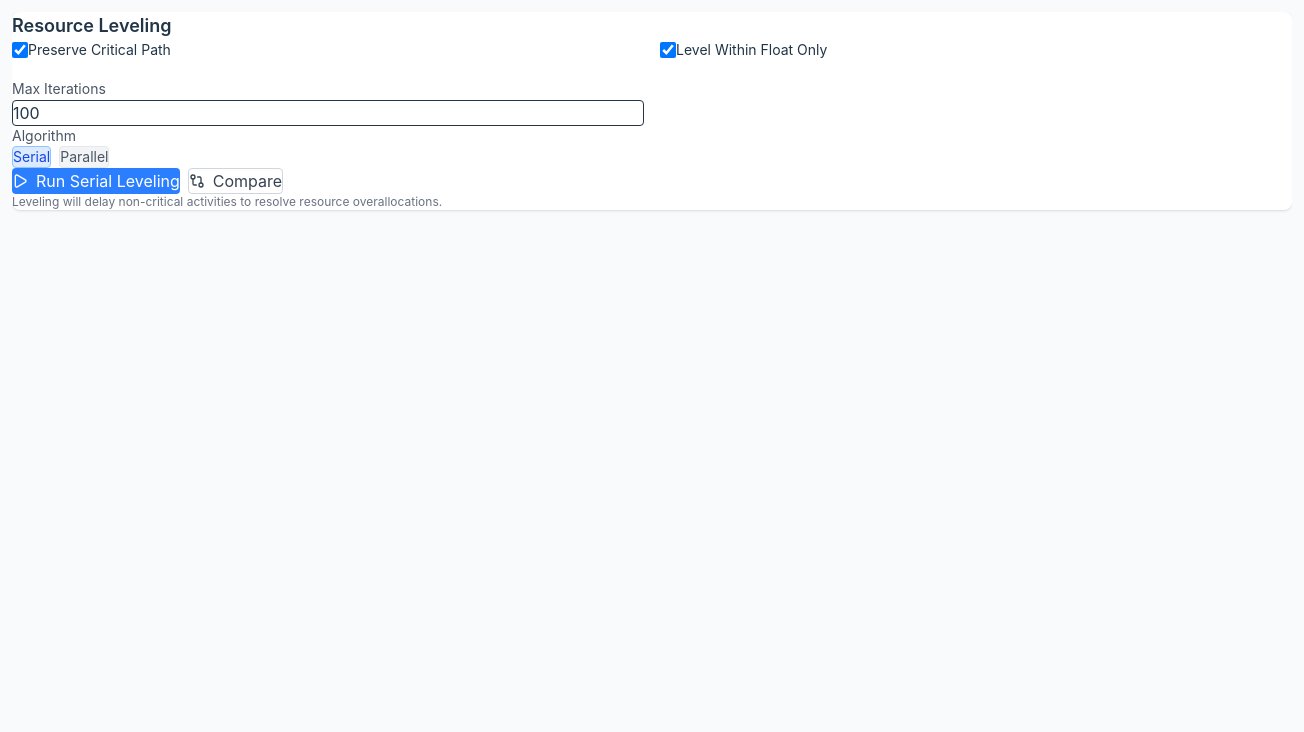
Test: LevelingPanel › shows no changes needed message
The width and height of the screenshot is (1304, 732).
Click the button "Run Serial Leveling".
click(96, 181)  # box [12,168,180,194]
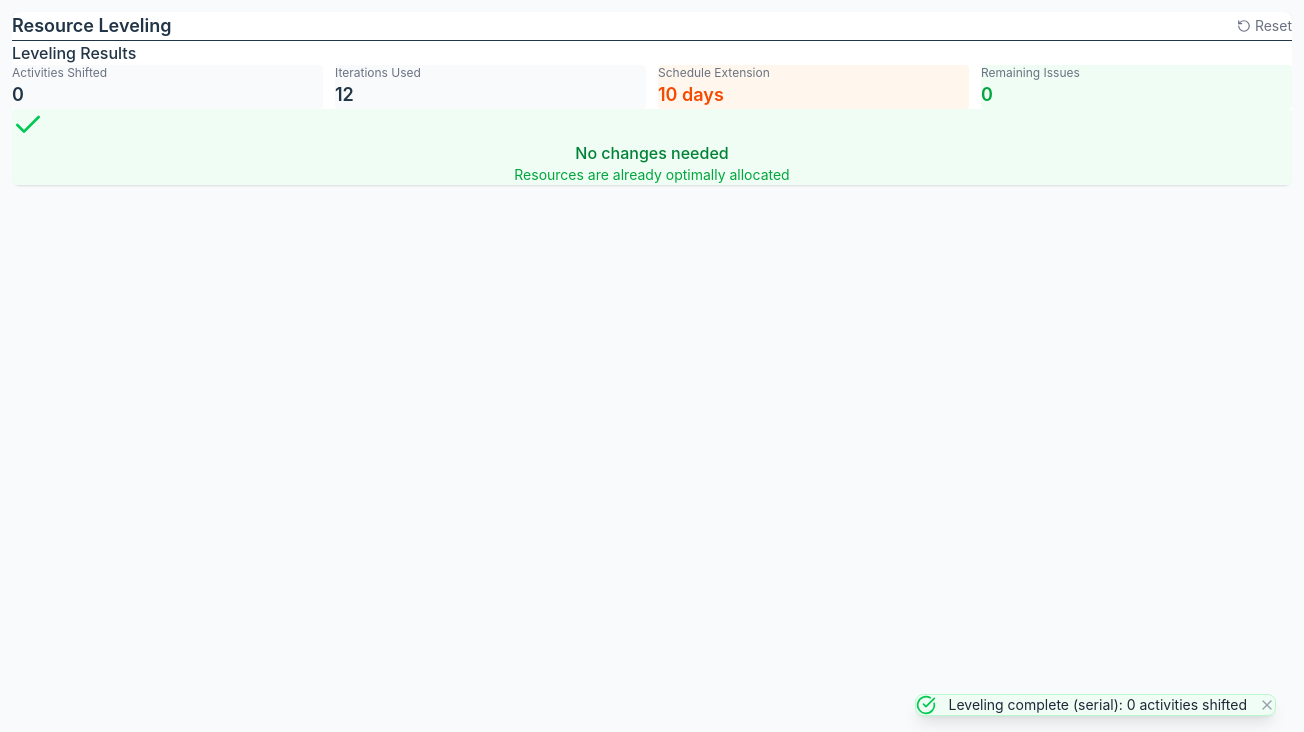
Expected: the text "No changes needed" is shown, [575,143,729,163]
